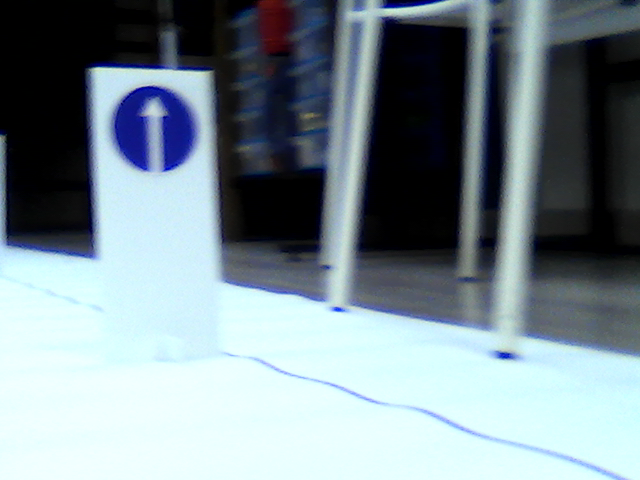forw: (115, 84, 196, 172)
